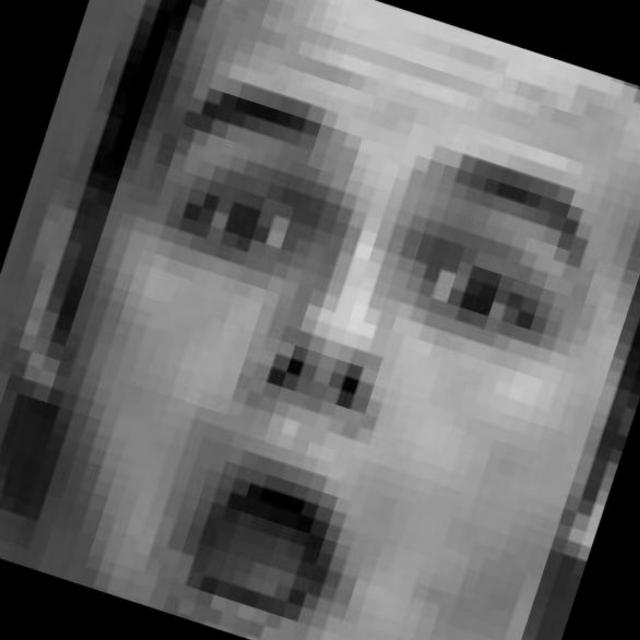Surprised: (31, 58, 640, 640)
